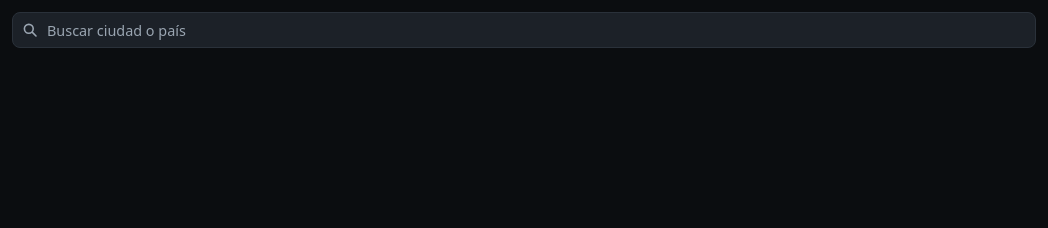
Test: PlaceSearch › muestra resultados con contexto y la fuente (P2)
The image size is (1048, 228).
Type "Medellín" into the dropdown labelled "Buscar ciudad o país".
click(524, 30); type("Medellín")  # box [12, 12, 1036, 48]
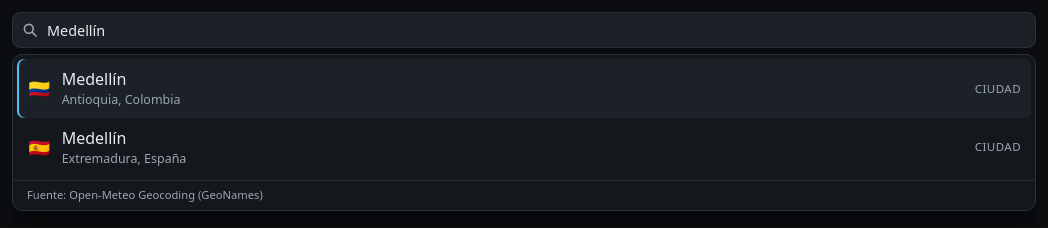
expect the number of options is 2: met, box [17, 59, 1031, 118]; [17, 118, 1031, 176]
expect the text "Antioquia, Colombia" is shown: met, box [62, 91, 180, 108]
expect the text "Fuente: Open-Meteo Geocoding (GeoNames)" is shown: met, box [13, 180, 1035, 210]
